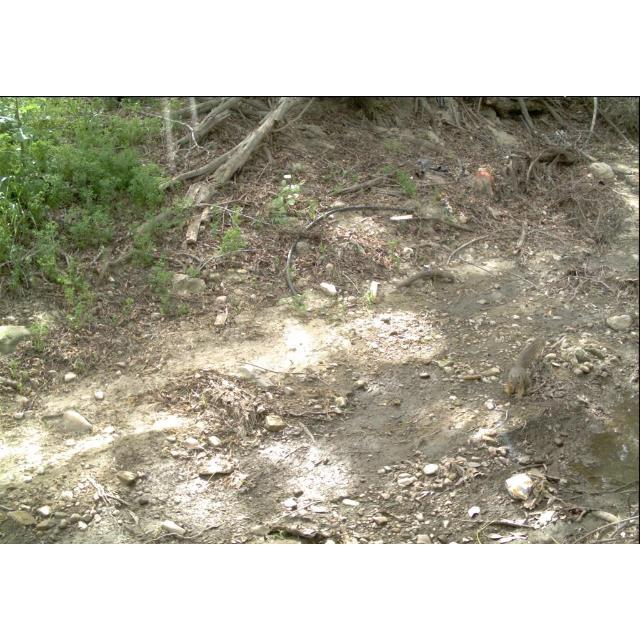animals: (503, 338, 541, 402)
